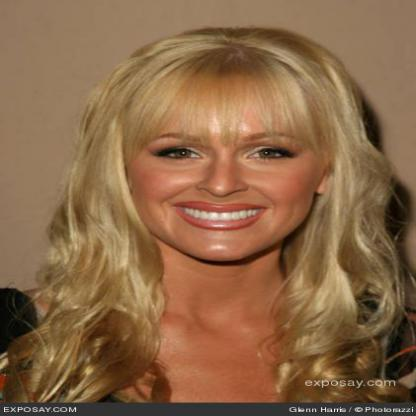long-hair: (29, 267, 409, 317)
